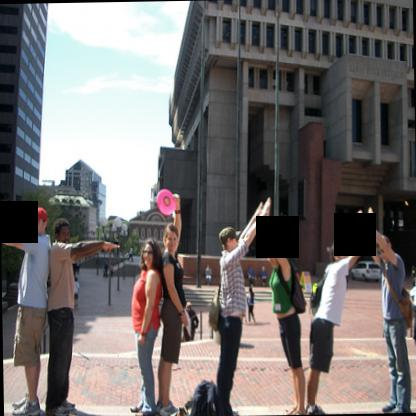backpack: (383, 262, 415, 329), (183, 379, 225, 416), (278, 261, 305, 314), (308, 276, 324, 315)
handbag: (384, 263, 415, 331), (166, 397, 192, 416)
